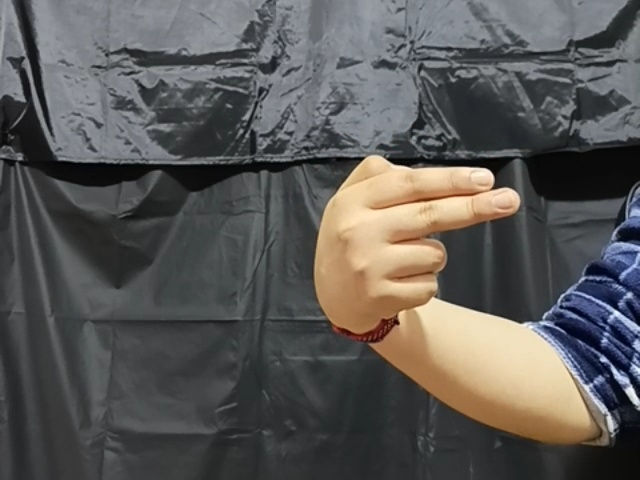H: (308, 154, 524, 346)
